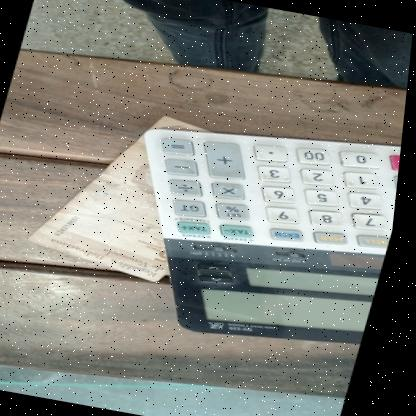five-front-vef: (24, 97, 216, 283)
